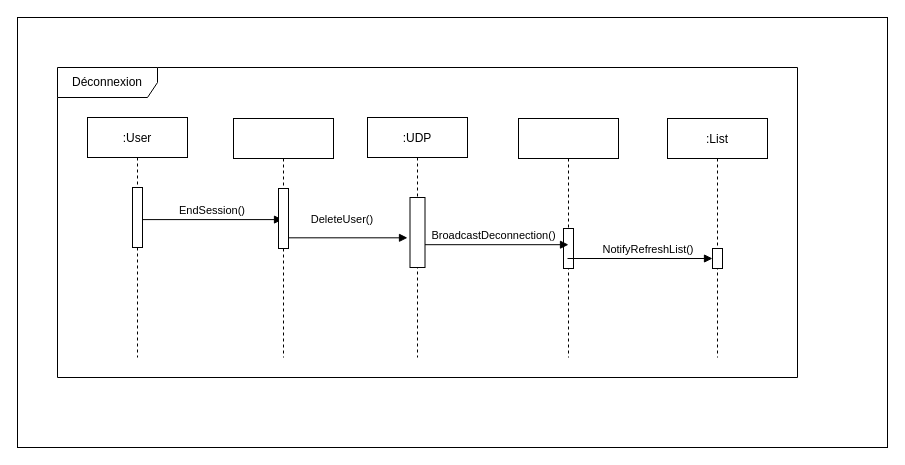
The diagram is 905 pixels wide and 465 high, and some of its shapes have lost their labels. The box of each missing label's shape, as (x1, y1, x2, y2) in pixels:
:Interface: (232, 118, 334, 358)
:Thread: (518, 118, 618, 358)
